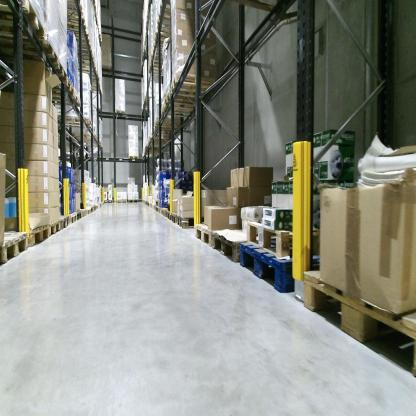pallet: (303, 256, 414, 379), (240, 233, 327, 296), (246, 218, 323, 259), (1, 31, 61, 66), (0, 1, 51, 41), (212, 228, 250, 264), (169, 71, 214, 100), (164, 82, 216, 106), (1, 228, 29, 268), (39, 87, 84, 110), (225, 1, 288, 16), (29, 62, 69, 84), (41, 76, 76, 98), (160, 99, 199, 117), (56, 114, 97, 131), (25, 221, 50, 248), (151, 117, 187, 134), (194, 223, 215, 250), (176, 215, 203, 229), (48, 218, 62, 238), (60, 215, 70, 233), (114, 109, 127, 119), (127, 154, 139, 163), (70, 212, 77, 224), (84, 207, 92, 217), (116, 198, 129, 204), (170, 212, 177, 223), (164, 210, 171, 221), (129, 197, 140, 204), (75, 210, 82, 221), (102, 198, 112, 205), (80, 208, 86, 219), (162, 206, 166, 218), (158, 208, 162, 215), (155, 206, 159, 212), (155, 200, 158, 207)
